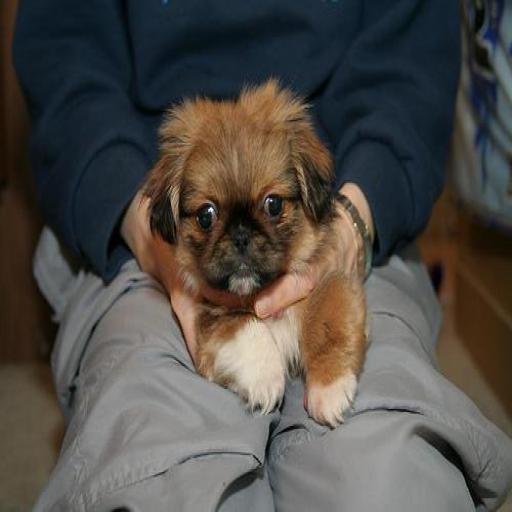dog_face: (158, 100, 328, 298)
